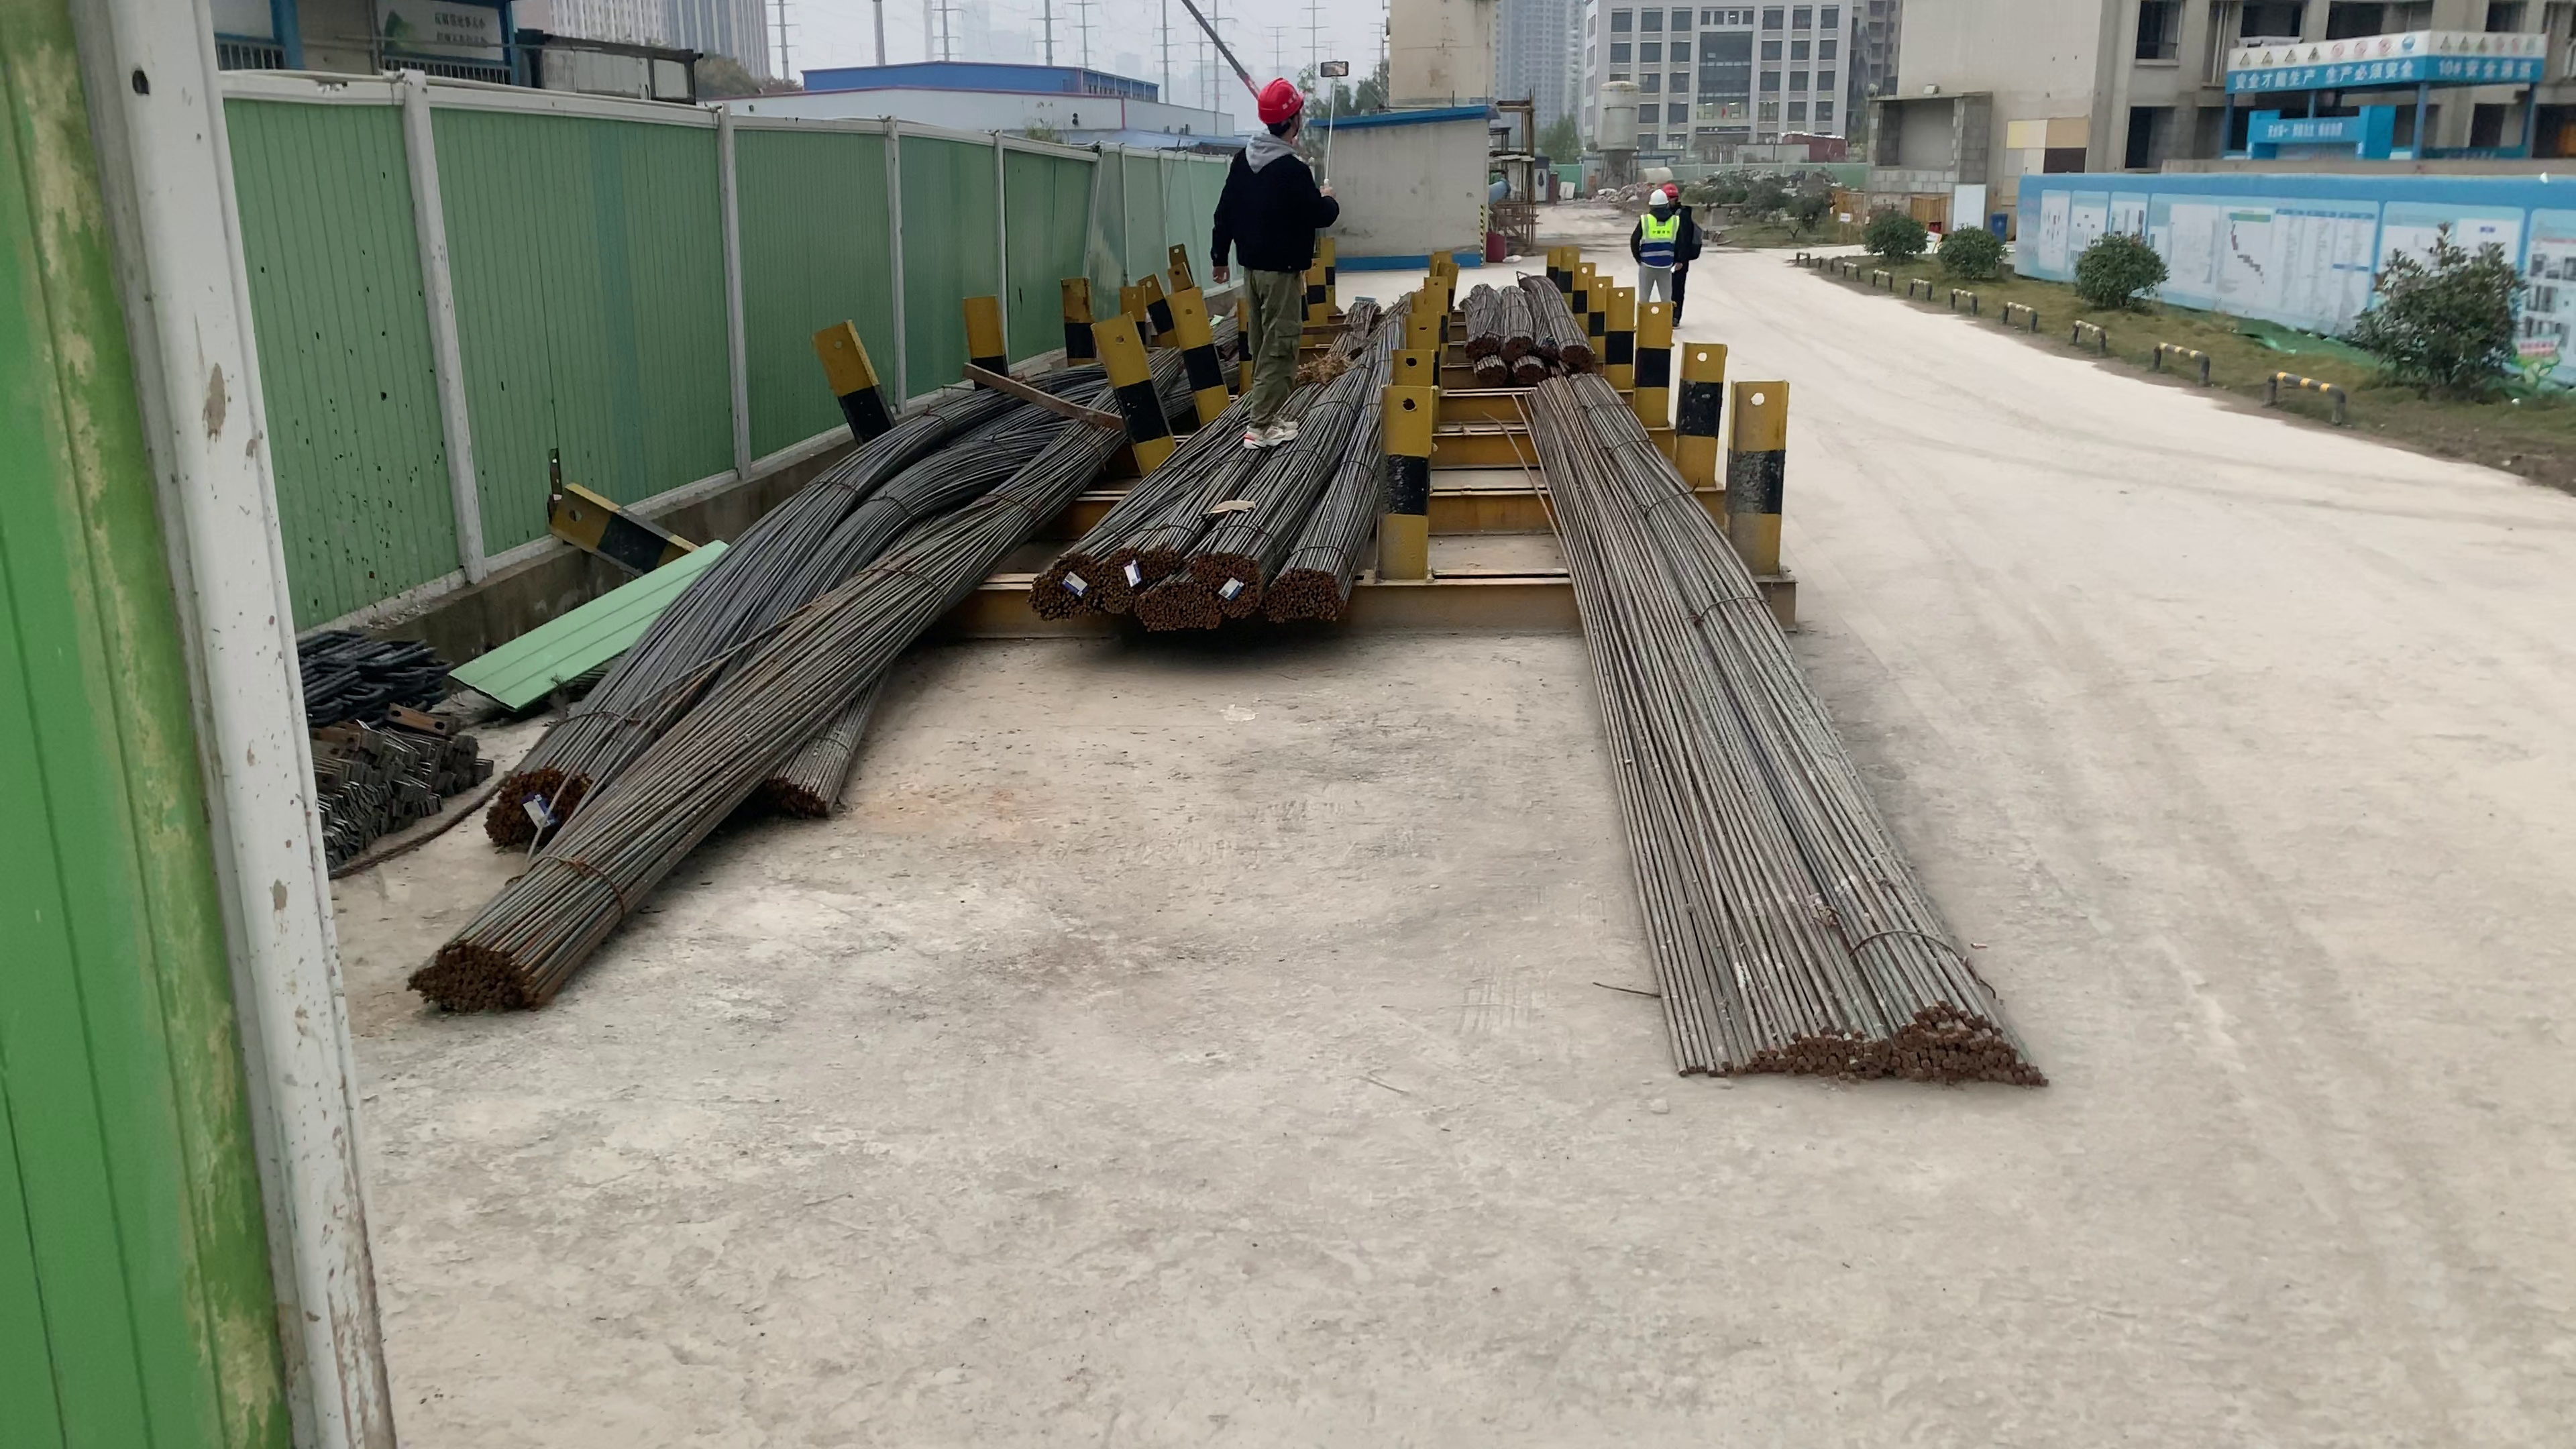rebar: (1674, 1000, 2052, 1097), (410, 931, 556, 1005), (474, 761, 582, 846), (1196, 541, 1269, 621), (1023, 543, 1099, 612), (1269, 564, 1346, 621), (1102, 547, 1175, 607), (741, 777, 835, 821), (1134, 586, 1217, 635), (1560, 341, 1598, 366), (1504, 333, 1530, 357), (1474, 361, 1504, 382), (1463, 333, 1497, 350), (1514, 364, 1548, 382)
